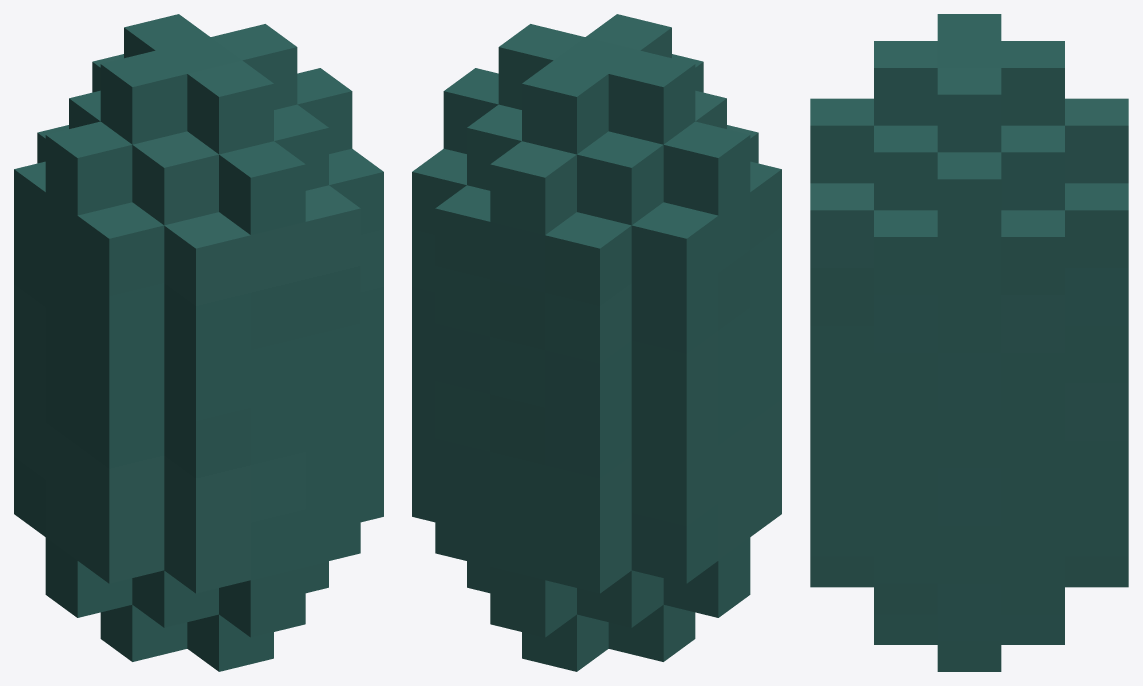
The model's file is flowertop.fbx.
3 renders of one model, left to right at view 1: azimuth 30°, elevation 25°; view 2: azimuth 150°, elevation 25°; view 3: azimuth 270°, elevation 25°, orthographic.
Parts seen in each view (by area): view 1: flowertop; view 2: flowertop; view 3: flowertop.
Boxes of the visible parts, x1=… form: flowertop: x1=14, y1=14, x2=383, y2=671; flowertop: x1=412, y1=14, x2=781, y2=671; flowertop: x1=810, y1=14, x2=1128, y2=671.
Size of the model in its own units: 5 by 10 by 5.
Materials: 1 (1 with a texture image).
